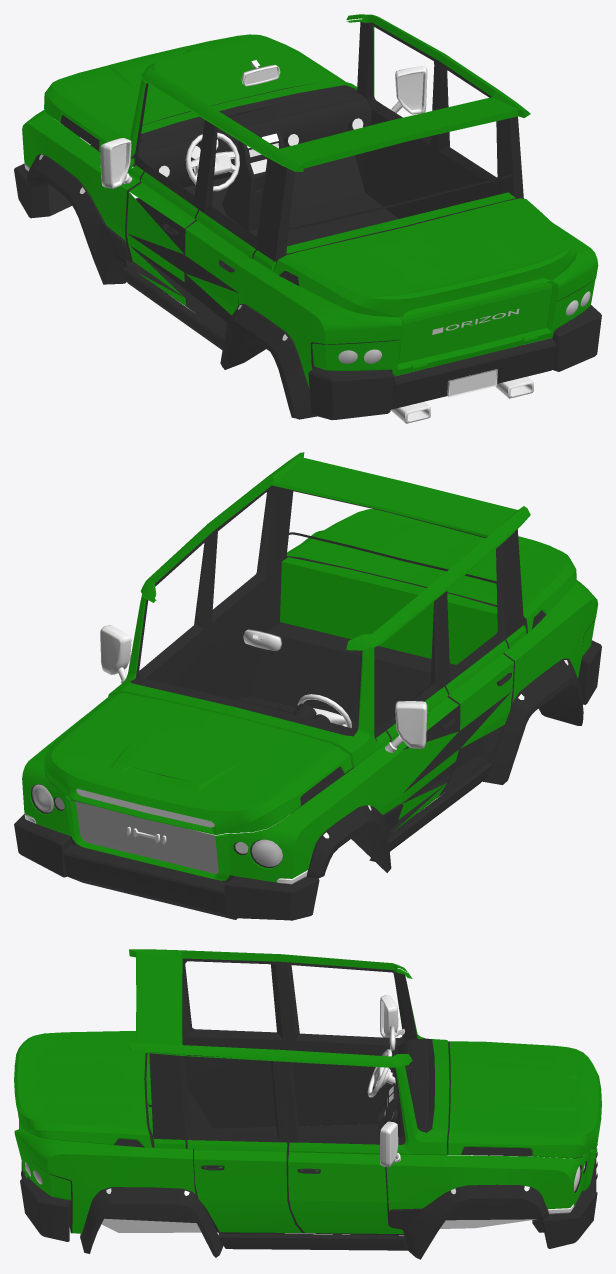
Rendered from fullcar2.gltf.
3 views of the same model, one above another, from view 1: azimuth 30°, elevation 25°; view 2: azimuth 150°, elevation 25°; view 3: azimuth 270°, elevation 25° (orthographic). The views are drawn at different scales.
Parts seen in each view (by area): view 1: node_id103; view 2: node_id103; view 3: node_id103.
Boxes of the visible parts, x1,y1,x2,y2 form: node_id103: (14, 14, 601, 423); node_id103: (14, 452, 601, 920); node_id103: (14, 949, 601, 1259).
Size of the model in its own units: 2.65 by 1.89 by 4.79.
